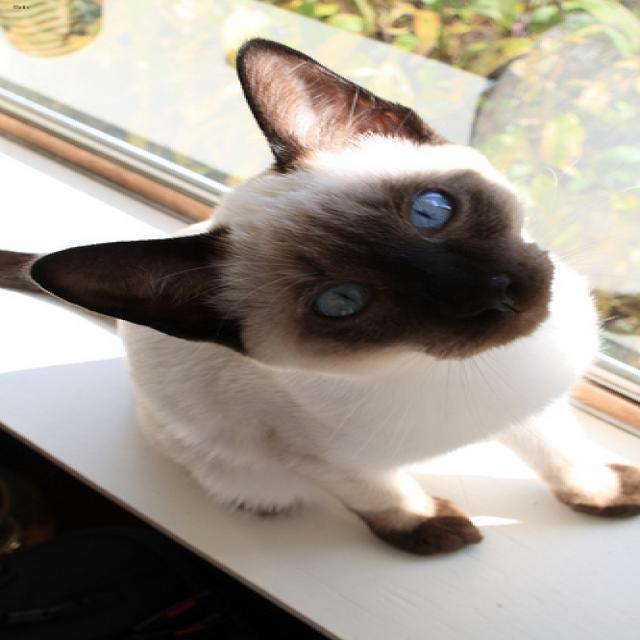Siamese: (27, 35, 559, 363)
